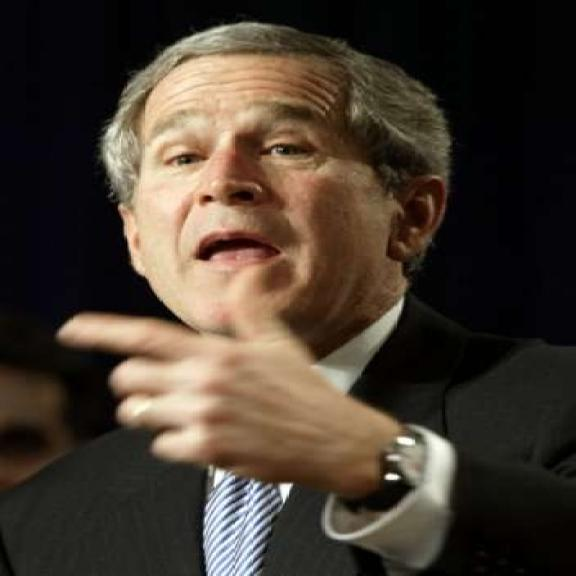face: (106, 64, 446, 343)
